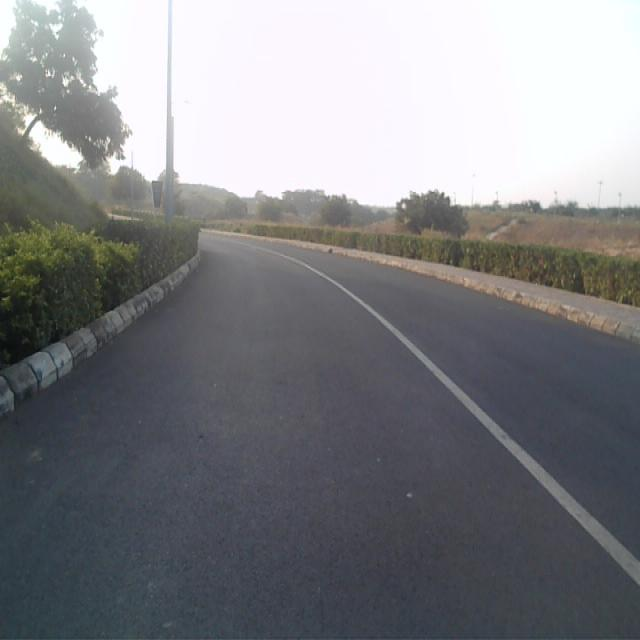lane: (0, 236, 640, 640)
